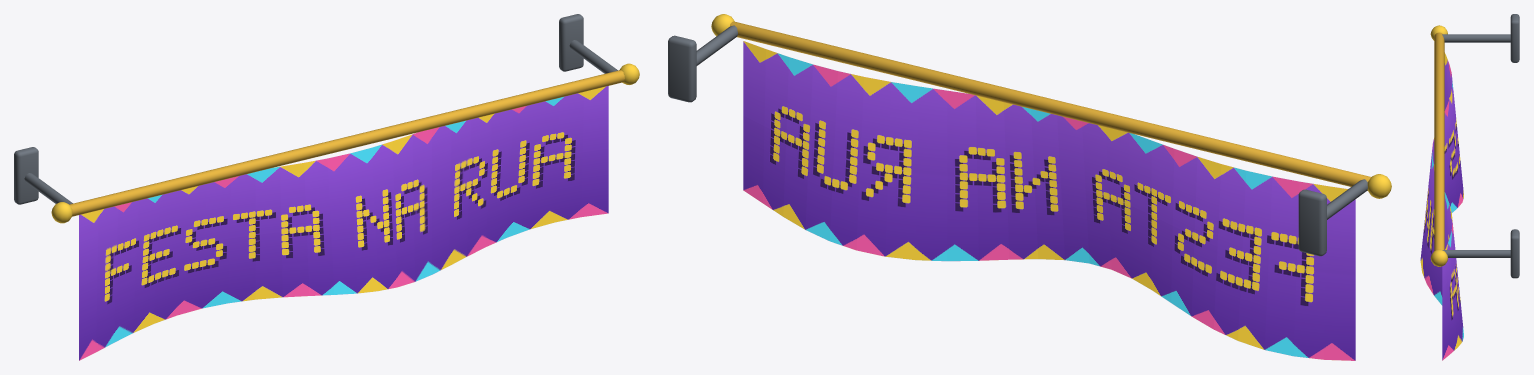
The model's file is faixa_bandeira_festa.glb.
3 views of the same model, side by side, from view 1: azimuth 30°, elevation 25°; view 2: azimuth 150°, elevation 25°; view 3: azimuth 270°, elevation 25° (orthographic). The views are drawn at different scales.
Parts seen in each view (by area): view 1: bandeira, faixa_bandeira_festa; view 2: bandeira, faixa_bandeira_festa; view 3: bandeira, faixa_bandeira_festa.
Boxes of the visible parts, x1,y1,x2,y2 form: bandeira: (69,70,624,360); faixa_bandeira_festa: (14,14,639,223); bandeira: (730,21,1370,360); faixa_bandeira_festa: (668,14,1391,256); bandeira: (1420,32,1463,360); faixa_bandeira_festa: (1430,14,1519,278).
Size of the model in its own units: 3.76 by 1.11 by 0.68.
2 materials, 2 textured.
